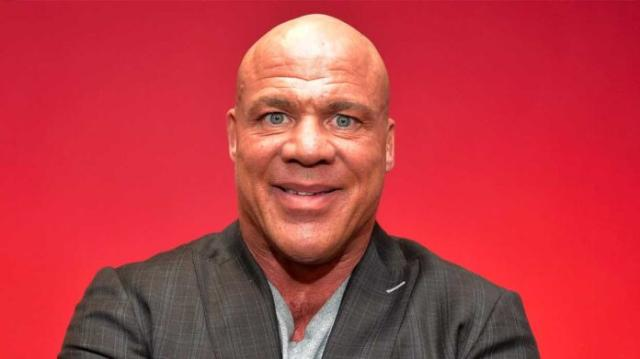forehead: (270, 68, 310, 86), (326, 76, 356, 88), (326, 61, 348, 77)
